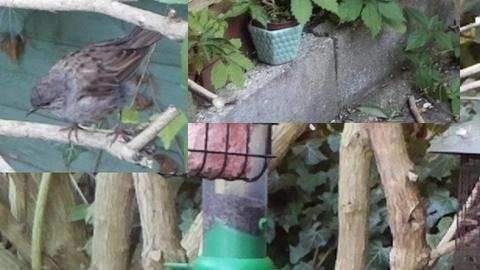dunnock: (25, 25, 163, 148)
